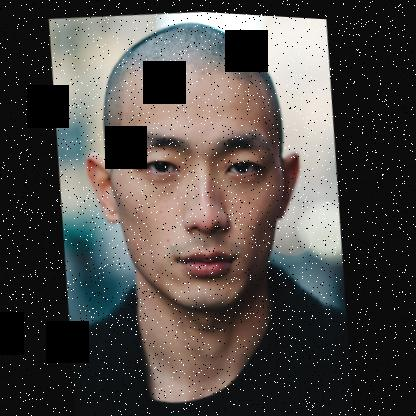Male: (70, 43, 316, 319)
